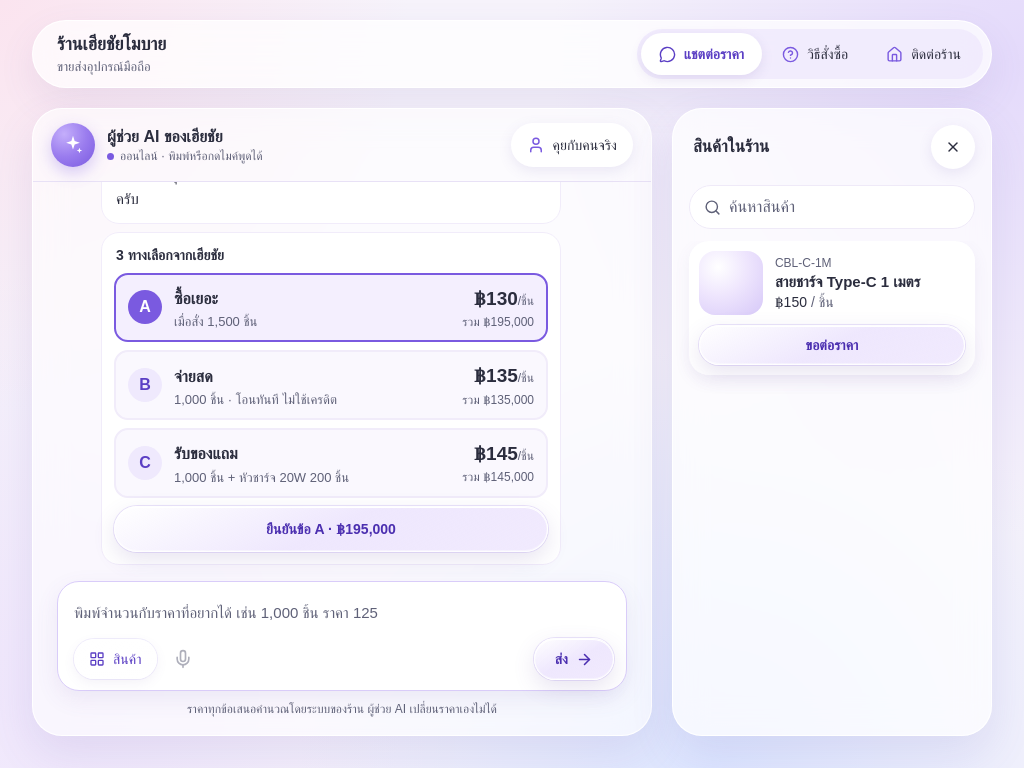
Test: ChatScreen — แชตจริง (ผ่าน API) › server ยืนยันข้อเสนอไม่ได้ (เก่า/ยืนยันไปแล้ว) → บอกลูกค้า ไม่เงียบ
The image size is (1024, 768).
Click the button "ยืนยันข้อ A · ฿195,000" at (331, 529), box 114,506 -> 548,552
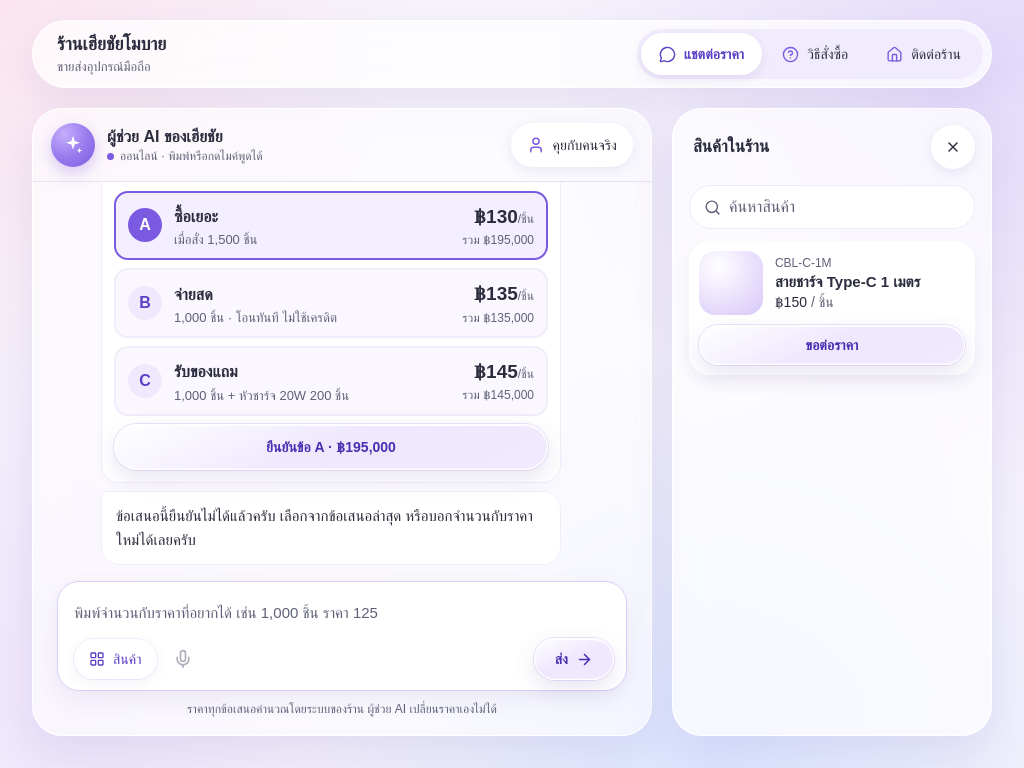
Check: the text "ยืนยันไม่ได้แล้ว" is shown, box 116,507 -> 533,548
